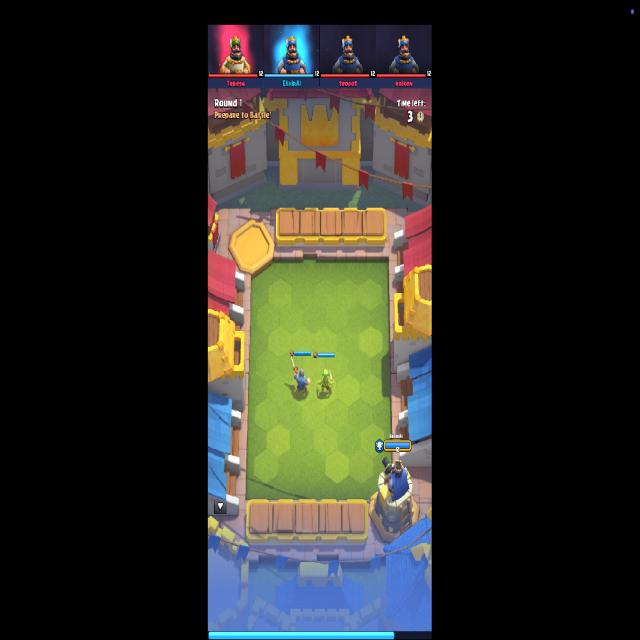goblin: (317, 366, 335, 399)
knight: (290, 356, 310, 397)
